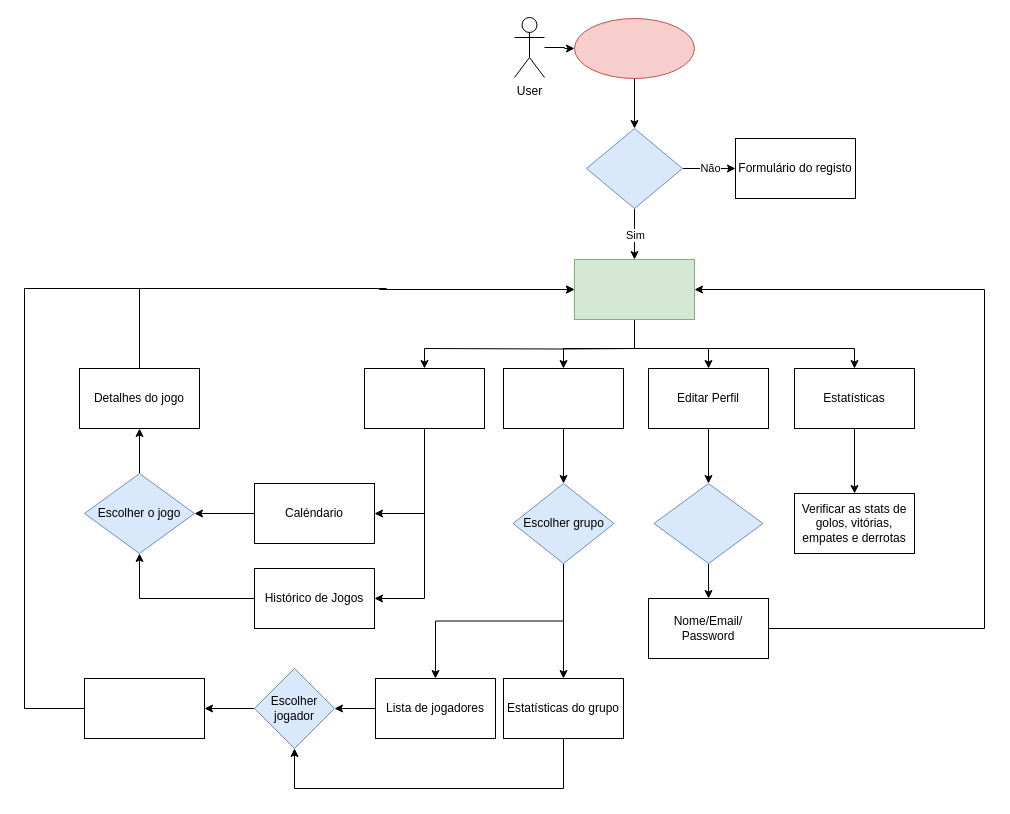
This 1010x814 diagram has some shape labels left out. The centre of each missing label's shape, as x and y in pixels:
Dashboard do utilizador: point (634, 289)
Escolher o que vai editar: point (708, 523)
Está logado?: point (634, 168)
Grupo/os: point (563, 398)
Iniciar a app: point (634, 48)
Jogos: point (424, 398)
Visualizar perfil do jogador: point (144, 708)
